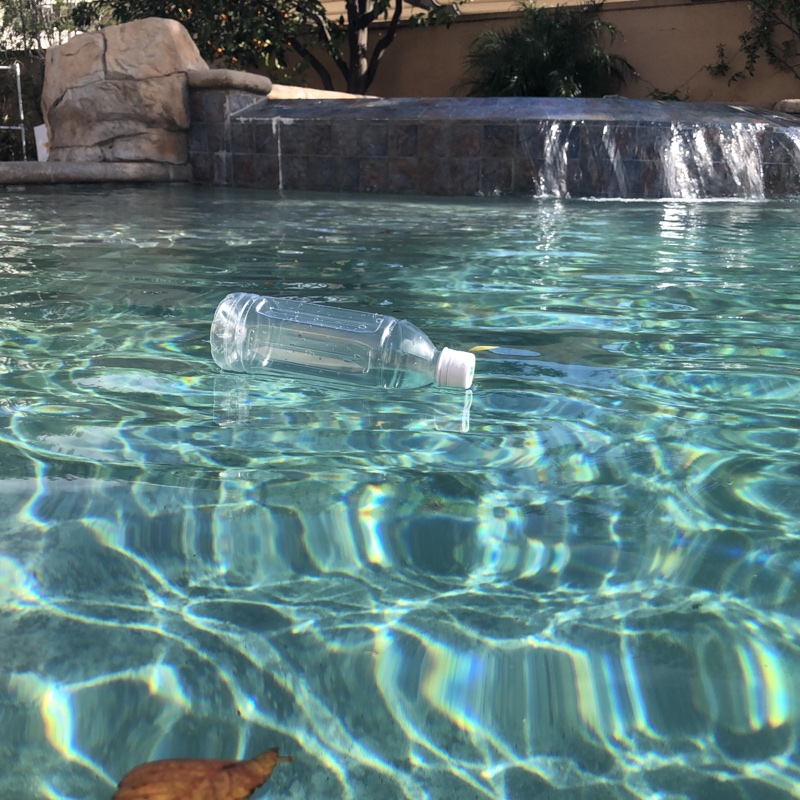Plastic Bottle: (208, 286, 478, 400)
